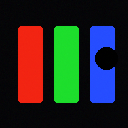2 circle: (95, 47, 117, 69)
